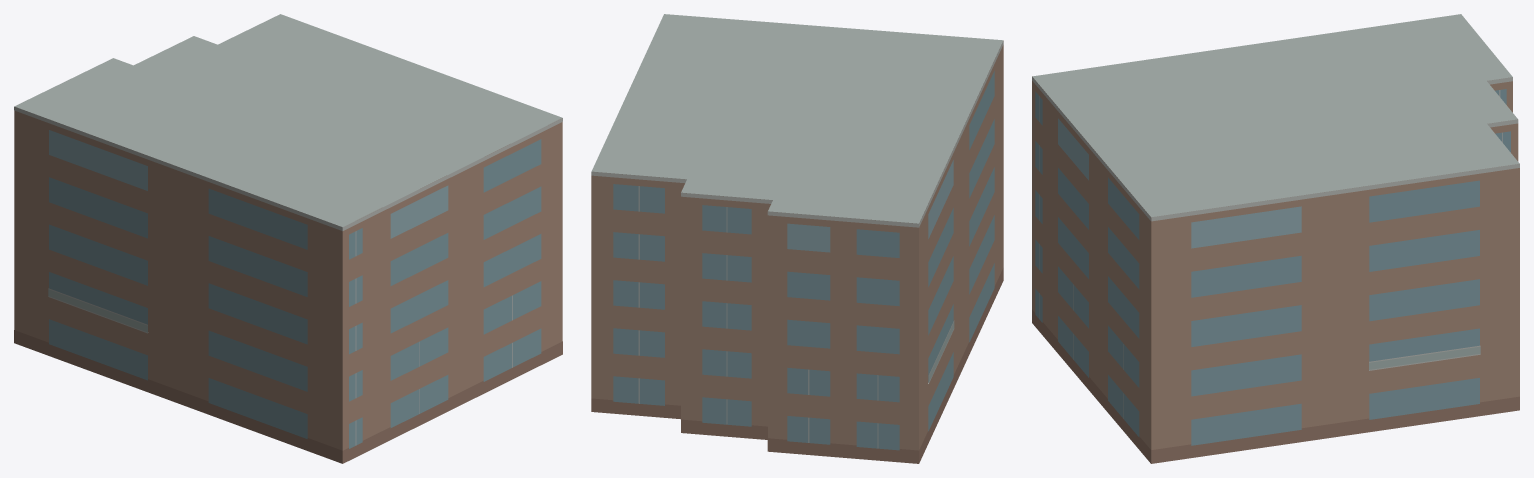
Rendered from survey-upis-32475293.glb.
3 renders of one model, left to right at view 1: azimuth 30°, elevation 25°; view 2: azimuth 150°, elevation 25°; view 3: azimuth 270°, elevation 25°, orthographic. The views are drawn at different scales.
Parts seen in each view (by area): view 1: survey-upis-32475293.tmp; view 2: survey-upis-32475293.tmp; view 3: survey-upis-32475293.tmp.
Boxes of the visible parts, x1=… form: survey-upis-32475293.tmp: x1=14, y1=14, x2=562, y2=463; survey-upis-32475293.tmp: x1=591, y1=14, x2=1003, y2=463; survey-upis-32475293.tmp: x1=1032, y1=14, x2=1519, y2=463.
Size of the model in its own units: 25.65 by 14.5 by 26.
